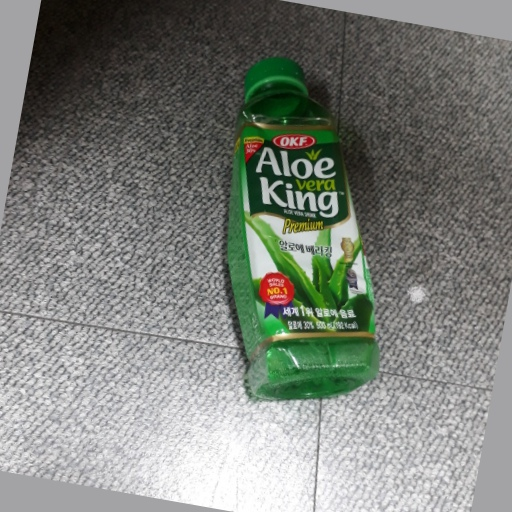Plastic_0: (225, 57, 381, 399)
